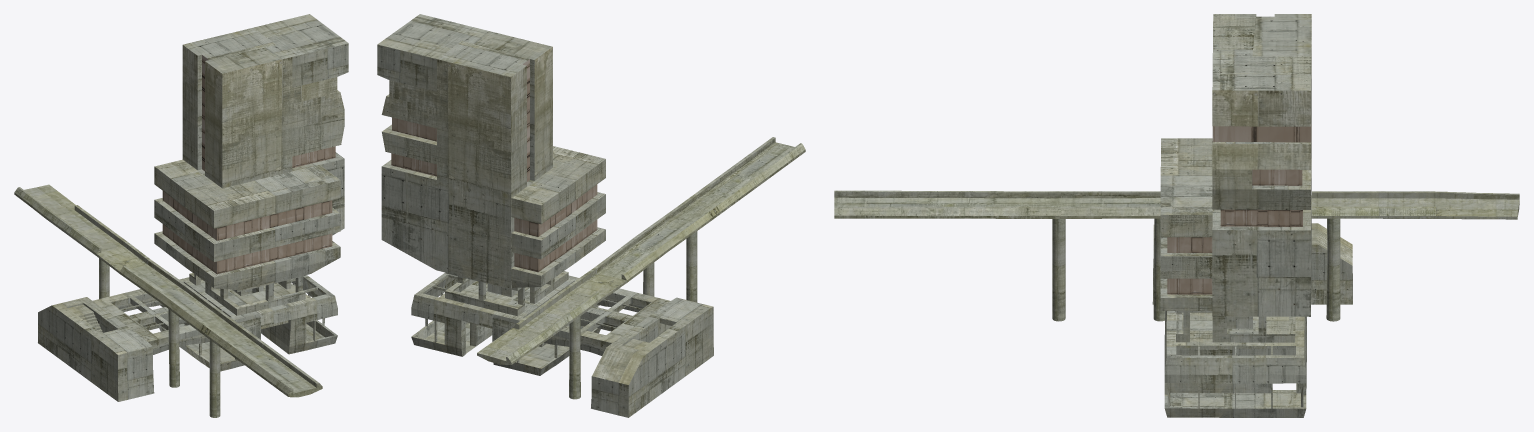
The picture shows the model from 3 angles, left to right: view 1: azimuth 30°, elevation 25°; view 2: azimuth 150°, elevation 25°; view 3: azimuth 270°, elevation 25°; orthographic projection. The views are drawn at different scales.
Parts seen in each view (by area): view 1: SM_HK_03_04; view 2: SM_HK_03_04; view 3: SM_HK_03_04.
Part boxes in pixels (<box>): SM_HK_03_04: <box>14,14,348,417</box>; SM_HK_03_04: <box>377,14,805,417</box>; SM_HK_03_04: <box>834,14,1519,417</box>.
Size of the model in its own units: 3483 by 3644 by 6530.
